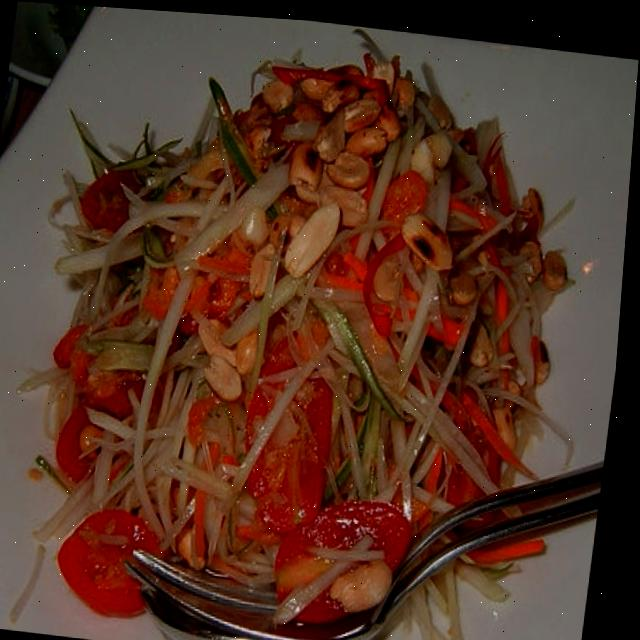蔬菜料理: (0, 0, 625, 640)
